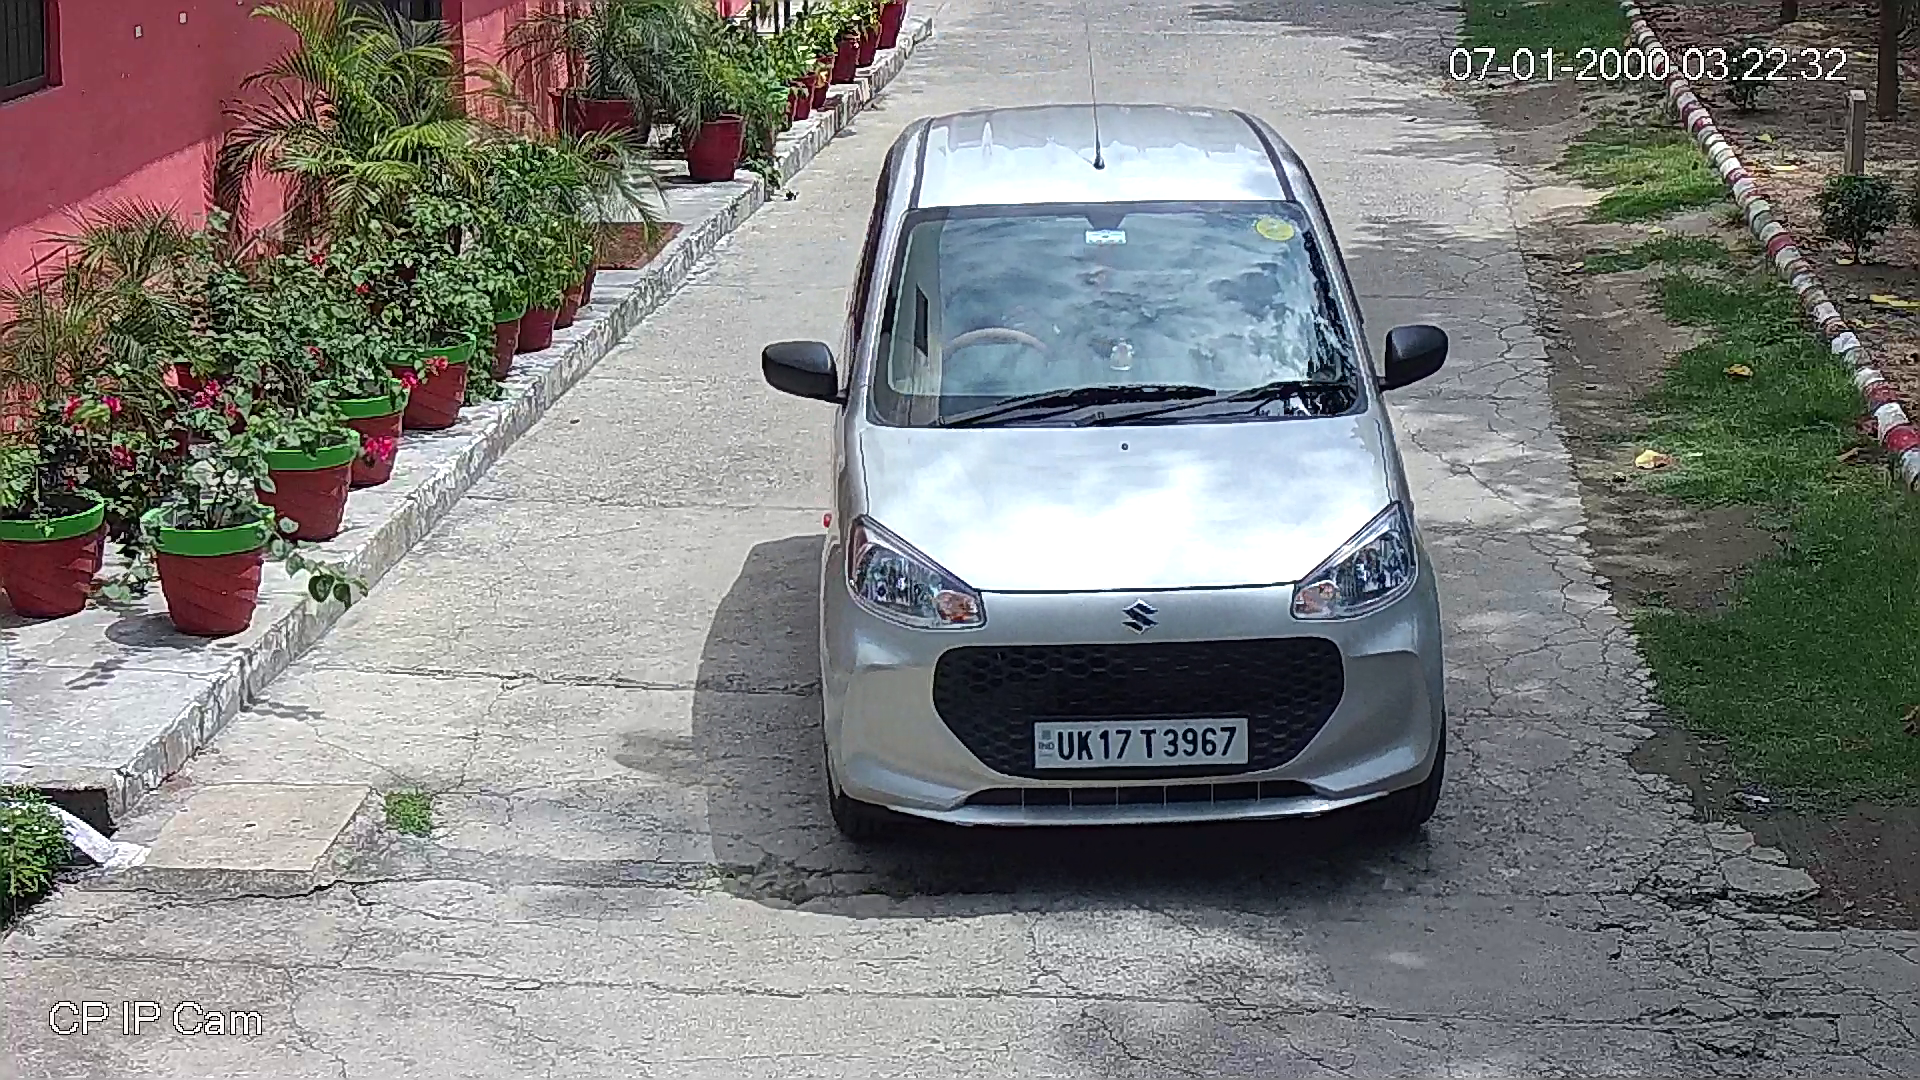plate: (1032, 715, 1247, 769)
